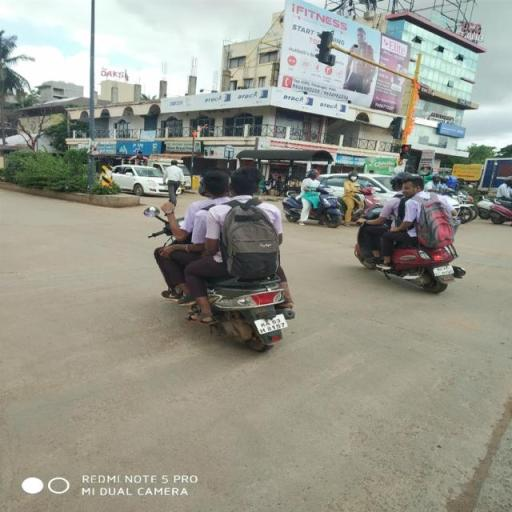tripple riding: (142, 162, 292, 280)
